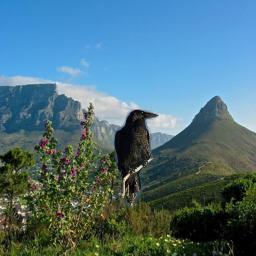Crow: (114, 109, 159, 210)
